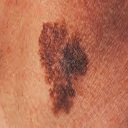Melanoma: (38, 21, 91, 116)
